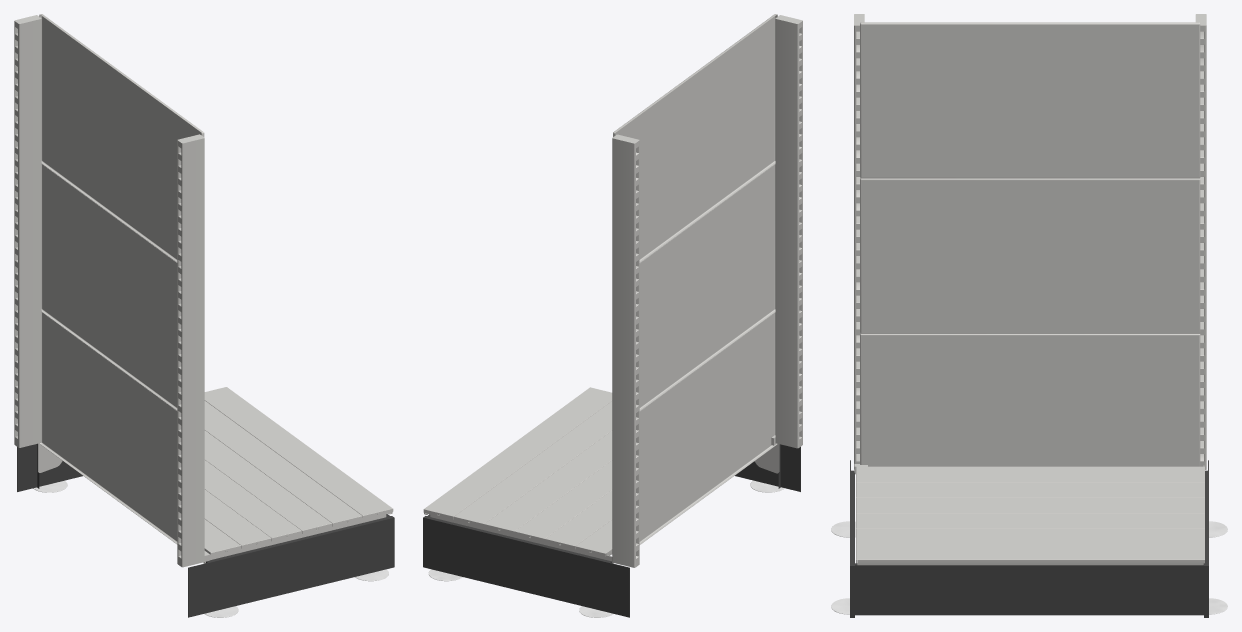
File: ShelvesBase02.fbx
The picture shows the model from 3 angles, left to right: view 1: azimuth 30°, elevation 25°; view 2: azimuth 150°, elevation 25°; view 3: azimuth 270°, elevation 25°; orthographic projection. The views are drawn at different scales.
Visible parts, largest first — view 1: ShelvesBase02; view 2: ShelvesBase02; view 3: ShelvesBase02.
Part boxes in pixels (x1,y1,x2,y2): ShelvesBase02: (14,14,394,617); ShelvesBase02: (423,14,802,617); ShelvesBase02: (831,14,1227,617).
Size of what is drawn, in the model's own units: 73.77 by 114 by 159.
Materials: 3 (1 with a texture image).
